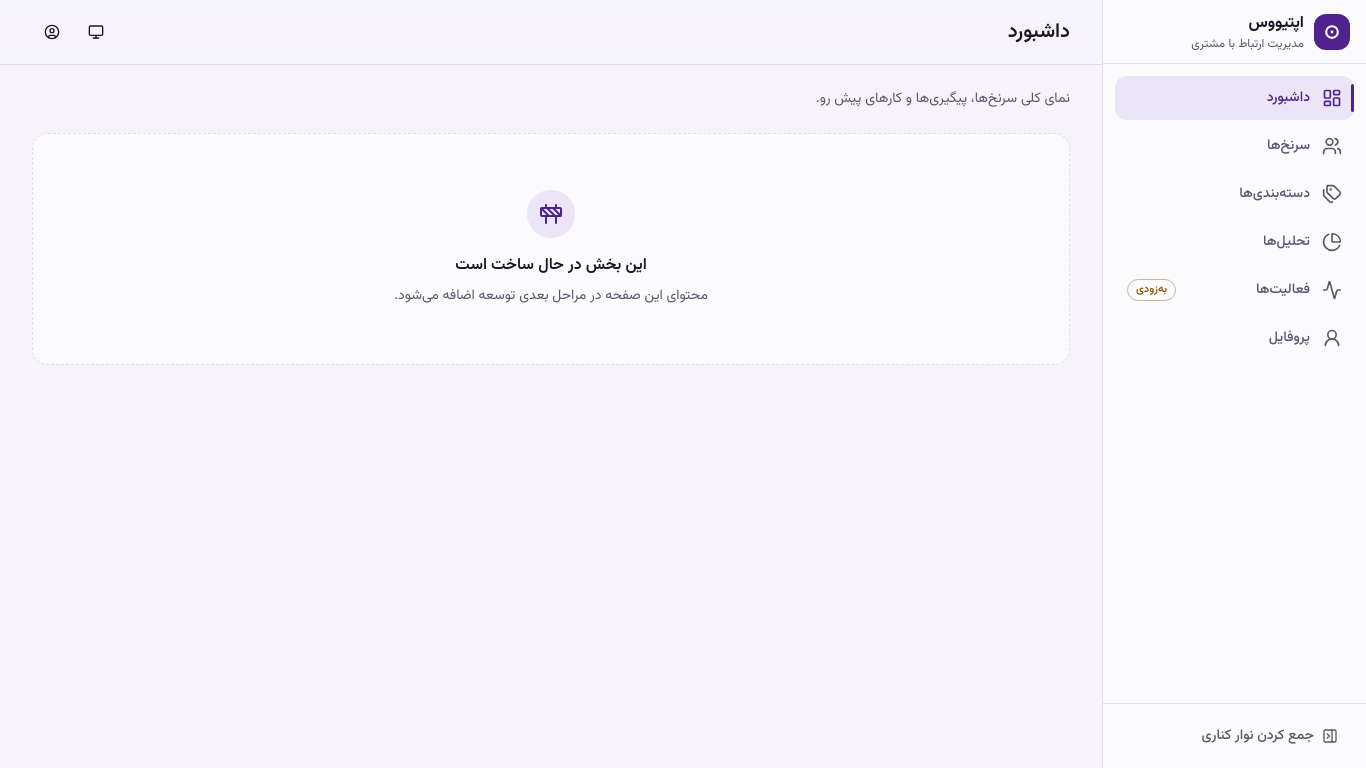
Test case: AppLayout › collapses the desktop sidebar with the button and remembers it
Expected: the heading "داشبورد" is shown, [1008, 16, 1070, 48]
Click the button "جمع کردن نوار کناری": (1234, 736) [1115, 716, 1354, 756]
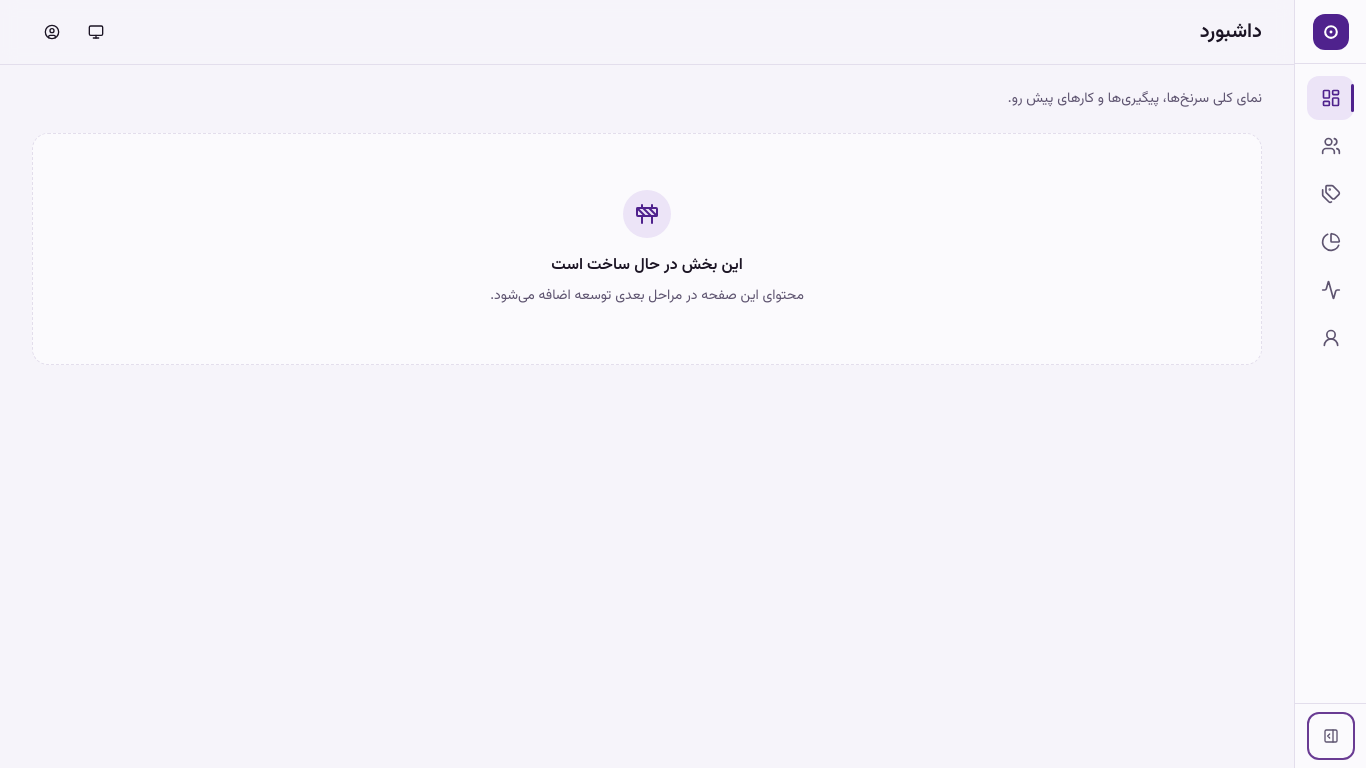
Expected: the button named "باز کردن نوار کناری" is collapsed, [1310, 716, 1350, 756]
